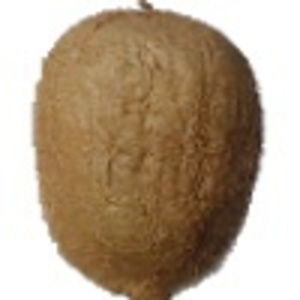kiwi: (25, 1, 266, 300)
